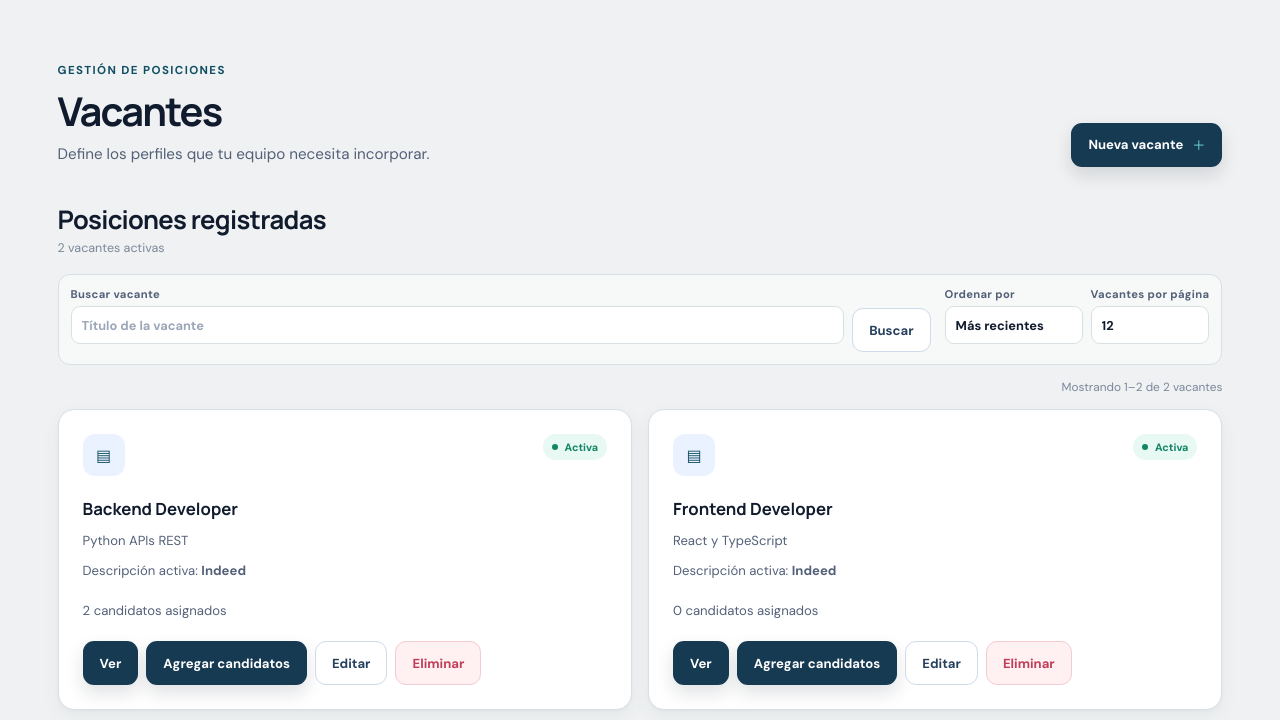
Test case: Jobs page › candidates request failed shows error and Reintentar
The image size is (1280, 720).
Check: the heading "Backend Developer" is shown, box x1=83 y1=498 x2=238 y2=520
What coordinates should you click on to do the following:
click the button "Ver" below "Python APIs REST"
I would click on:
 (110, 663)
Its box is x1=83 y1=641 x2=138 y2=685.
(page scrolled)
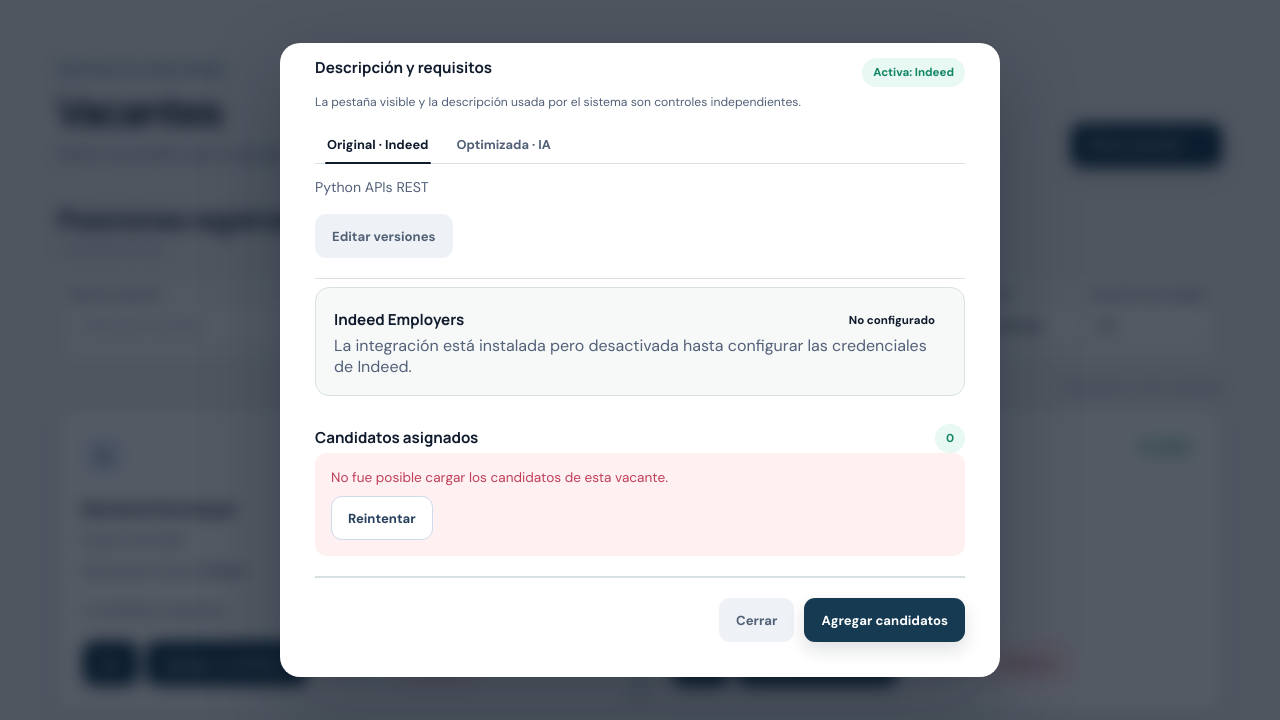
Check: the text "No fue posible cargar los candidatos de esta vacante." is shown, box x1=331 y1=469 x2=668 y2=486
Check: the button "Reintentar" is shown, box x1=331 y1=496 x2=433 y2=540
